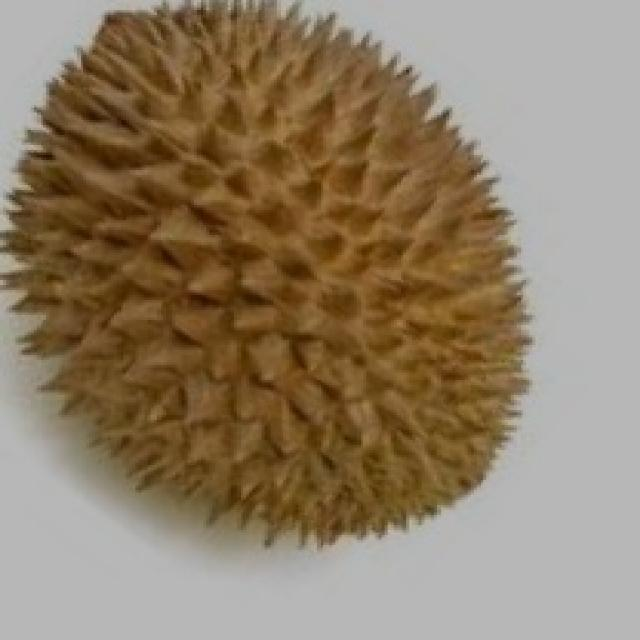fruit: (206, 210, 603, 605), (0, 205, 369, 620)
